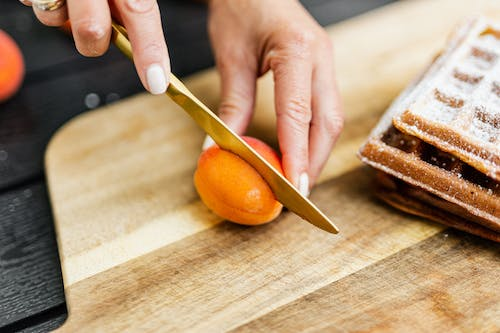knife: (165, 71, 339, 236)
